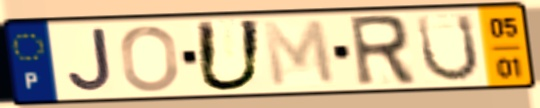J: (65, 25, 115, 95)
M: (259, 17, 339, 90)
O: (118, 23, 182, 94)
R: (345, 12, 420, 90)
U: (192, 18, 266, 94), (414, 12, 483, 85)
